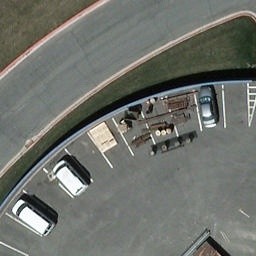car: (198, 84, 219, 126)
van: (10, 200, 53, 239), (51, 162, 92, 199)
